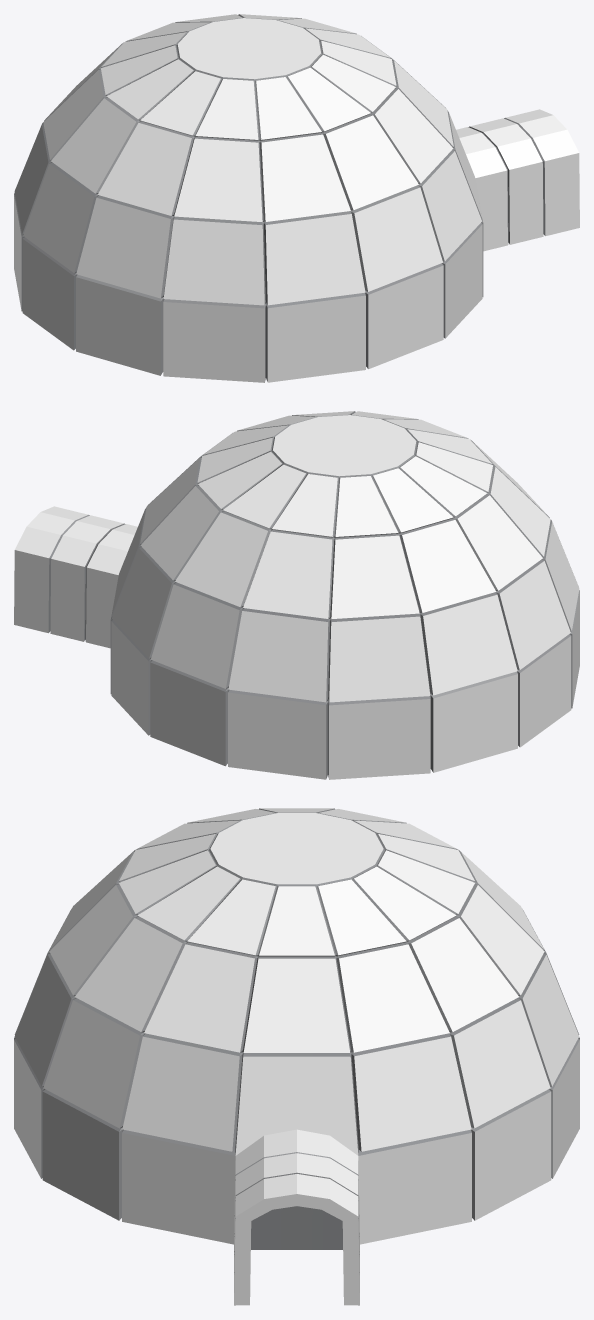
Rendered from island6.iglo.fbx.
The picture shows the model from 3 angles, top to bottom: view 1: azimuth 30°, elevation 25°; view 2: azimuth 150°, elevation 25°; view 3: azimuth 270°, elevation 25°; orthographic projection. The views are drawn at different scales.
Parts seen in each view (by area): view 1: island6-iglo; view 2: island6-iglo; view 3: island6-iglo.
Boxes of the visible parts, <box> form: island6-iglo: <box>14,14,579,382</box>; island6-iglo: <box>14,411,579,779</box>; island6-iglo: <box>14,808,579,1305</box>.
Size of the model in its own units: 10.52 by 4.66 by 8.55.
1 material, 1 textured.
